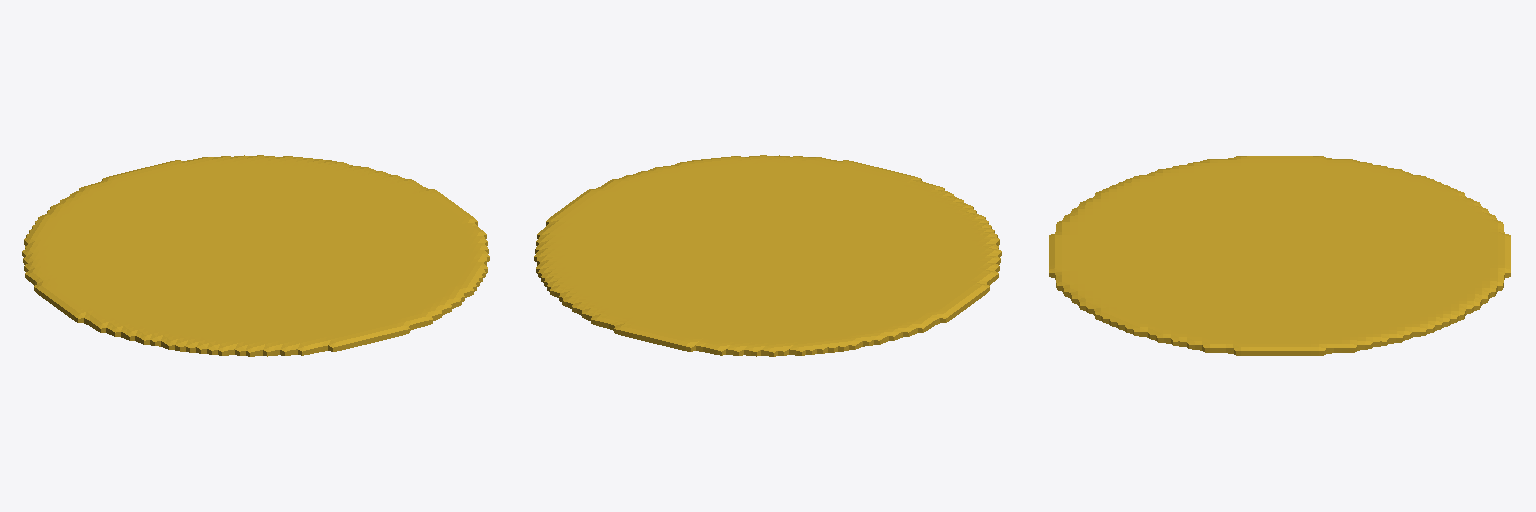
Rendered from coin_clean.obj.
The picture shows the model from 3 angles: view 1: azimuth 30°, elevation 25°; view 2: azimuth 150°, elevation 25°; view 3: azimuth 270°, elevation 25°; orthographic projection.
Visible parts, largest first — view 1: CoinClean; view 2: CoinClean; view 3: CoinClean.
Part boxes in pixels (x1,y1,x2,y2): CoinClean: (22,155,489,356); CoinClean: (534,155,1001,356); CoinClean: (1049,156,1510,355).
Bounding box in the file's own units: 1.86 × 0.04 × 1.86.